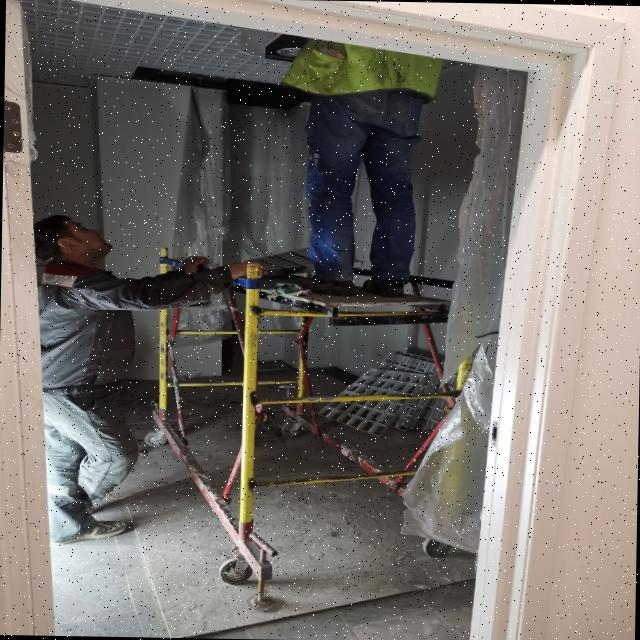NoHelmet: (36, 216, 121, 269)
